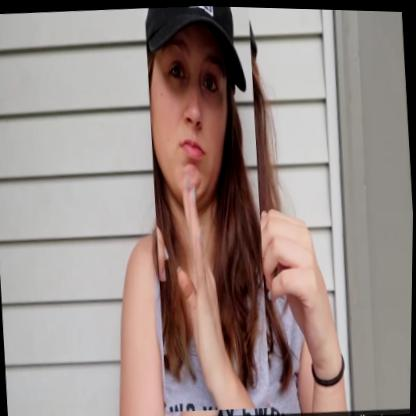Talk: (139, 3, 276, 413)
